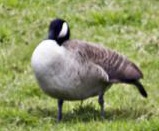goose: (29, 16, 151, 124)
